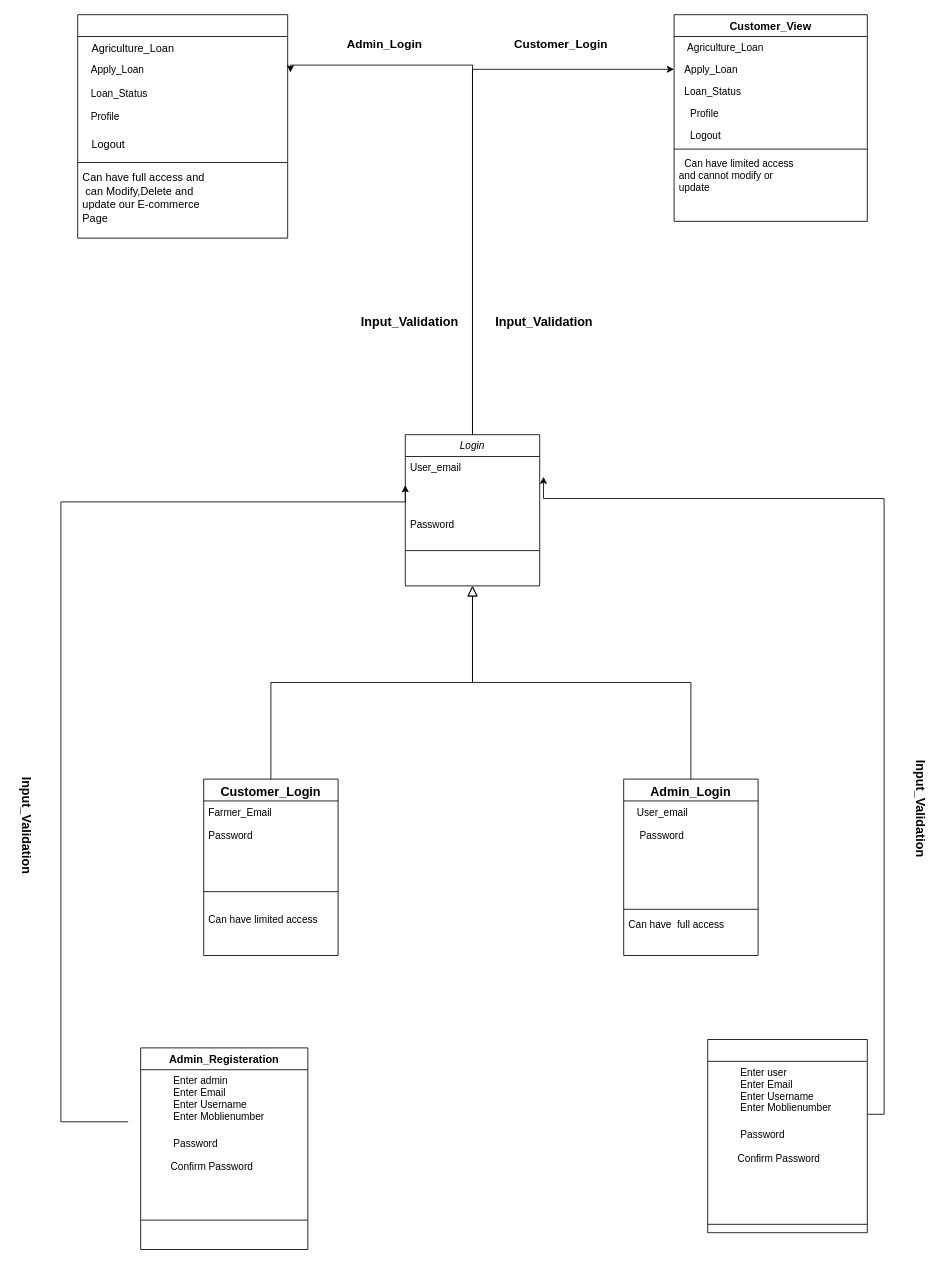
This 948x1264 diagram has some shape labels left out. Each missing label, with the box of its shape:
Admin_View: (77, 14, 288, 238)
Customer_Registeration: (707, 1039, 867, 1233)
